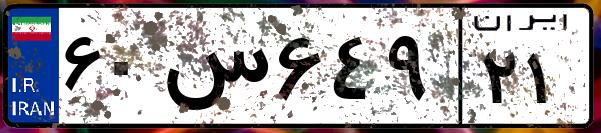0: (110, 28, 158, 98)
1: (525, 38, 570, 115)
2: (475, 38, 525, 113)
4: (330, 28, 385, 110)
6: (270, 28, 330, 110), (57, 26, 110, 100)
9: (385, 28, 445, 110)
س: (158, 20, 270, 120)
